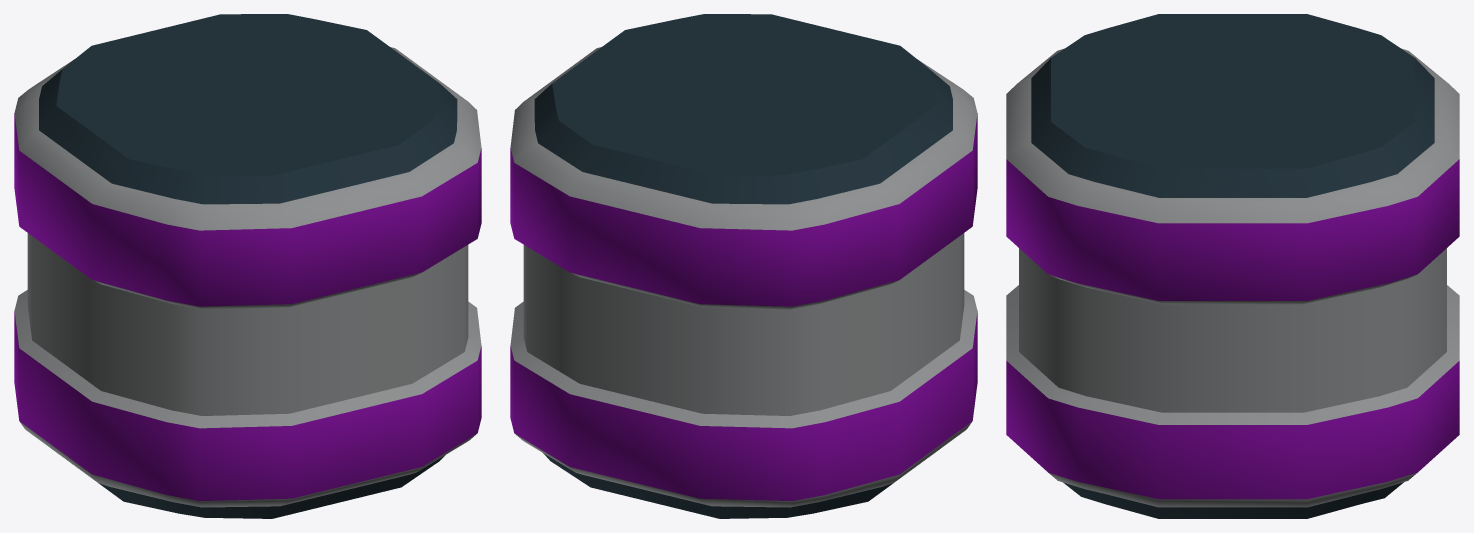
File: Module_Ss_ass_stru4.FBX
3 renders of one model, left to right at view 1: azimuth 30°, elevation 25°; view 2: azimuth 150°, elevation 25°; view 3: azimuth 270°, elevation 25°, orthographic.
Visible parts, largest first — view 1: Module_Ss_ass_stru4; view 2: Module_Ss_ass_stru4; view 3: Module_Ss_ass_stru4.
Boxes of the visible parts, box(x1,y1,x2,y2) form: Module_Ss_ass_stru4: box(14, 14, 481, 518); Module_Ss_ass_stru4: box(510, 14, 977, 518); Module_Ss_ass_stru4: box(1006, 14, 1459, 518).
Size of the model in its own units: 39.55 by 33.49 by 39.59.
